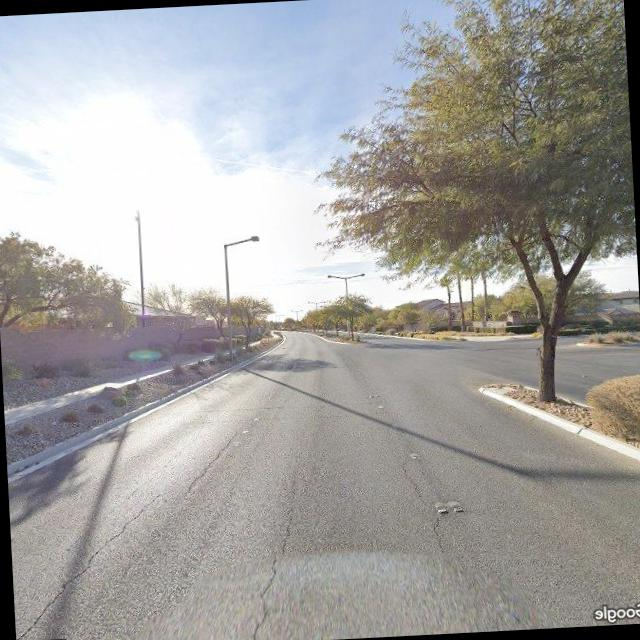crack: (12, 488, 171, 640), (235, 483, 308, 640), (182, 431, 247, 494)
